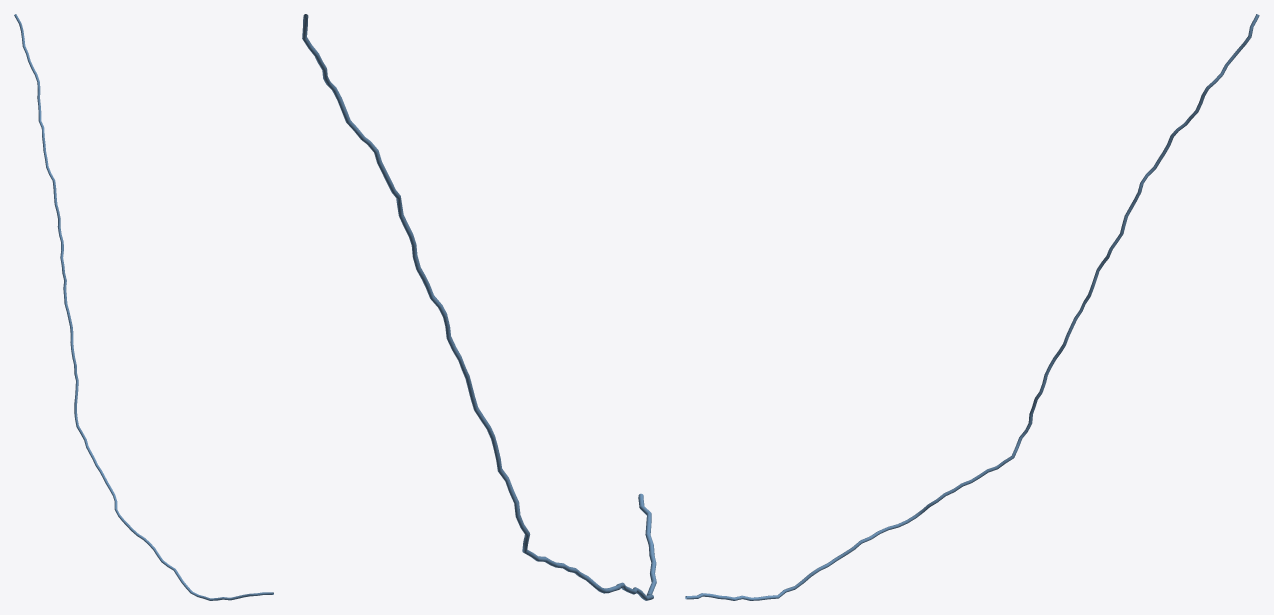
Rendered from sweep220.fbx.
3 renders of one model, left to right at view 1: azimuth 30°, elevation 25°; view 2: azimuth 150°, elevation 25°; view 3: azimuth 270°, elevation 25°, orthographic. The views are drawn at different scales.
Visible parts, largest first — view 1: sweep220; view 2: sweep220; view 3: sweep220.
Part boxes in pixels (x1=…): sweep220: x1=14, y1=14, x2=273, y2=600; sweep220: x1=302, y1=14, x2=656, y2=600; sweep220: x1=685, y1=14, x2=1259, y2=600.
Bounding box in the file's own units: 0.5712 × 3.53 × 3.14.
